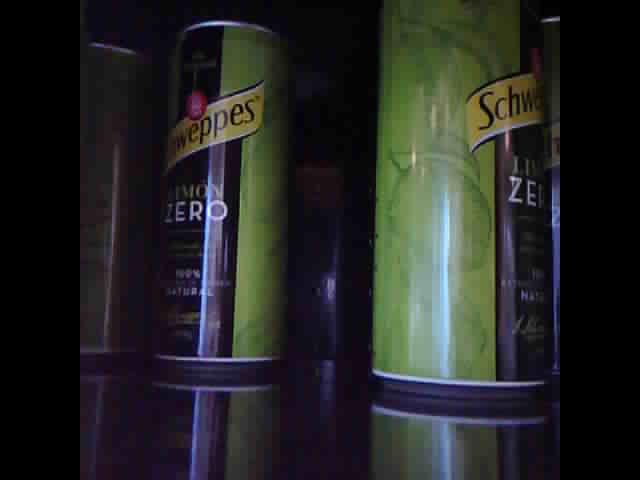schweppes: (369, 5, 551, 391), (149, 18, 288, 370), (78, 25, 138, 360)
